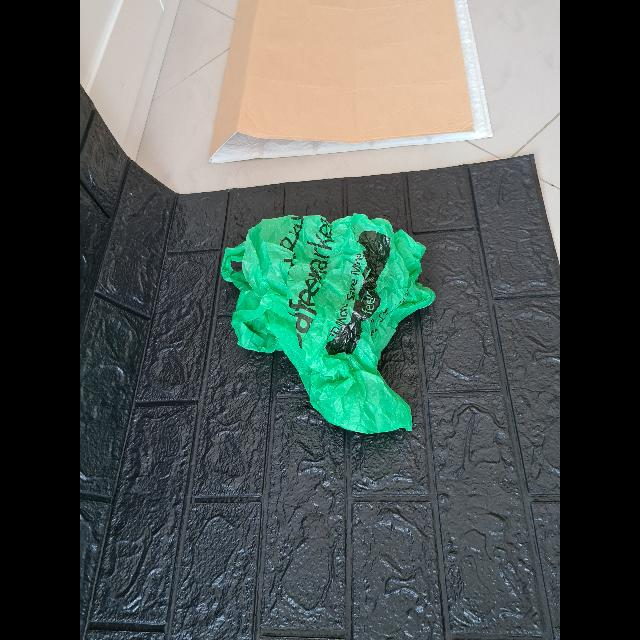plastic_bag: (219, 212, 435, 434)
